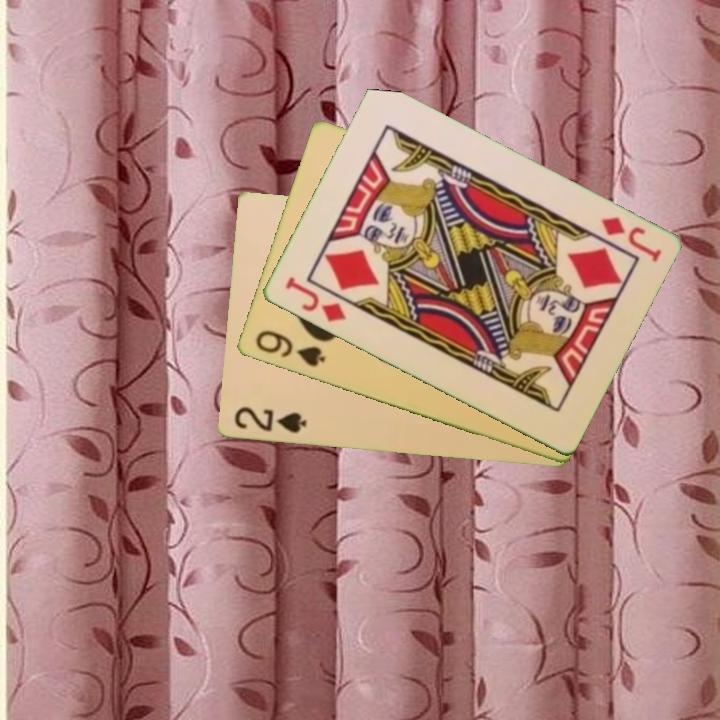2s: (230, 403, 309, 437)
9s: (251, 327, 328, 371)
Jd: (596, 213, 664, 266), (281, 273, 349, 325)
